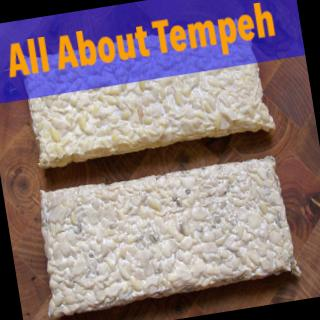Tempe: (38, 153, 304, 320), (28, 62, 279, 173)
